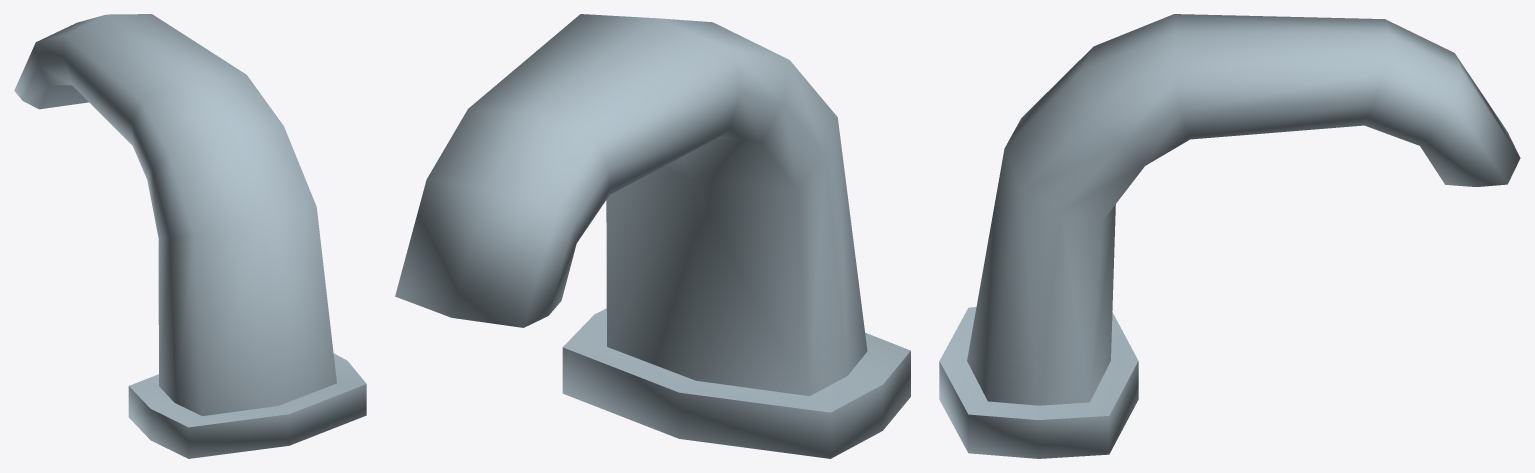
File: Faucet_geo.fbx
3 views of the same model, side by side, from view 1: azimuth 30°, elevation 25°; view 2: azimuth 150°, elevation 25°; view 3: azimuth 270°, elevation 25° (orthographic). The views are drawn at different scales.
Parts seen in each view (by area): view 1: Faucet_geo; view 2: Faucet_geo; view 3: Faucet_geo.
Boxes of the visible parts, <box> form: Faucet_geo: <box>14,14,366,458</box>; Faucet_geo: <box>395,14,910,458</box>; Faucet_geo: <box>939,14,1520,458</box>.
Size of the model in its own units: 0.2372 by 0.4933 by 0.3435.
